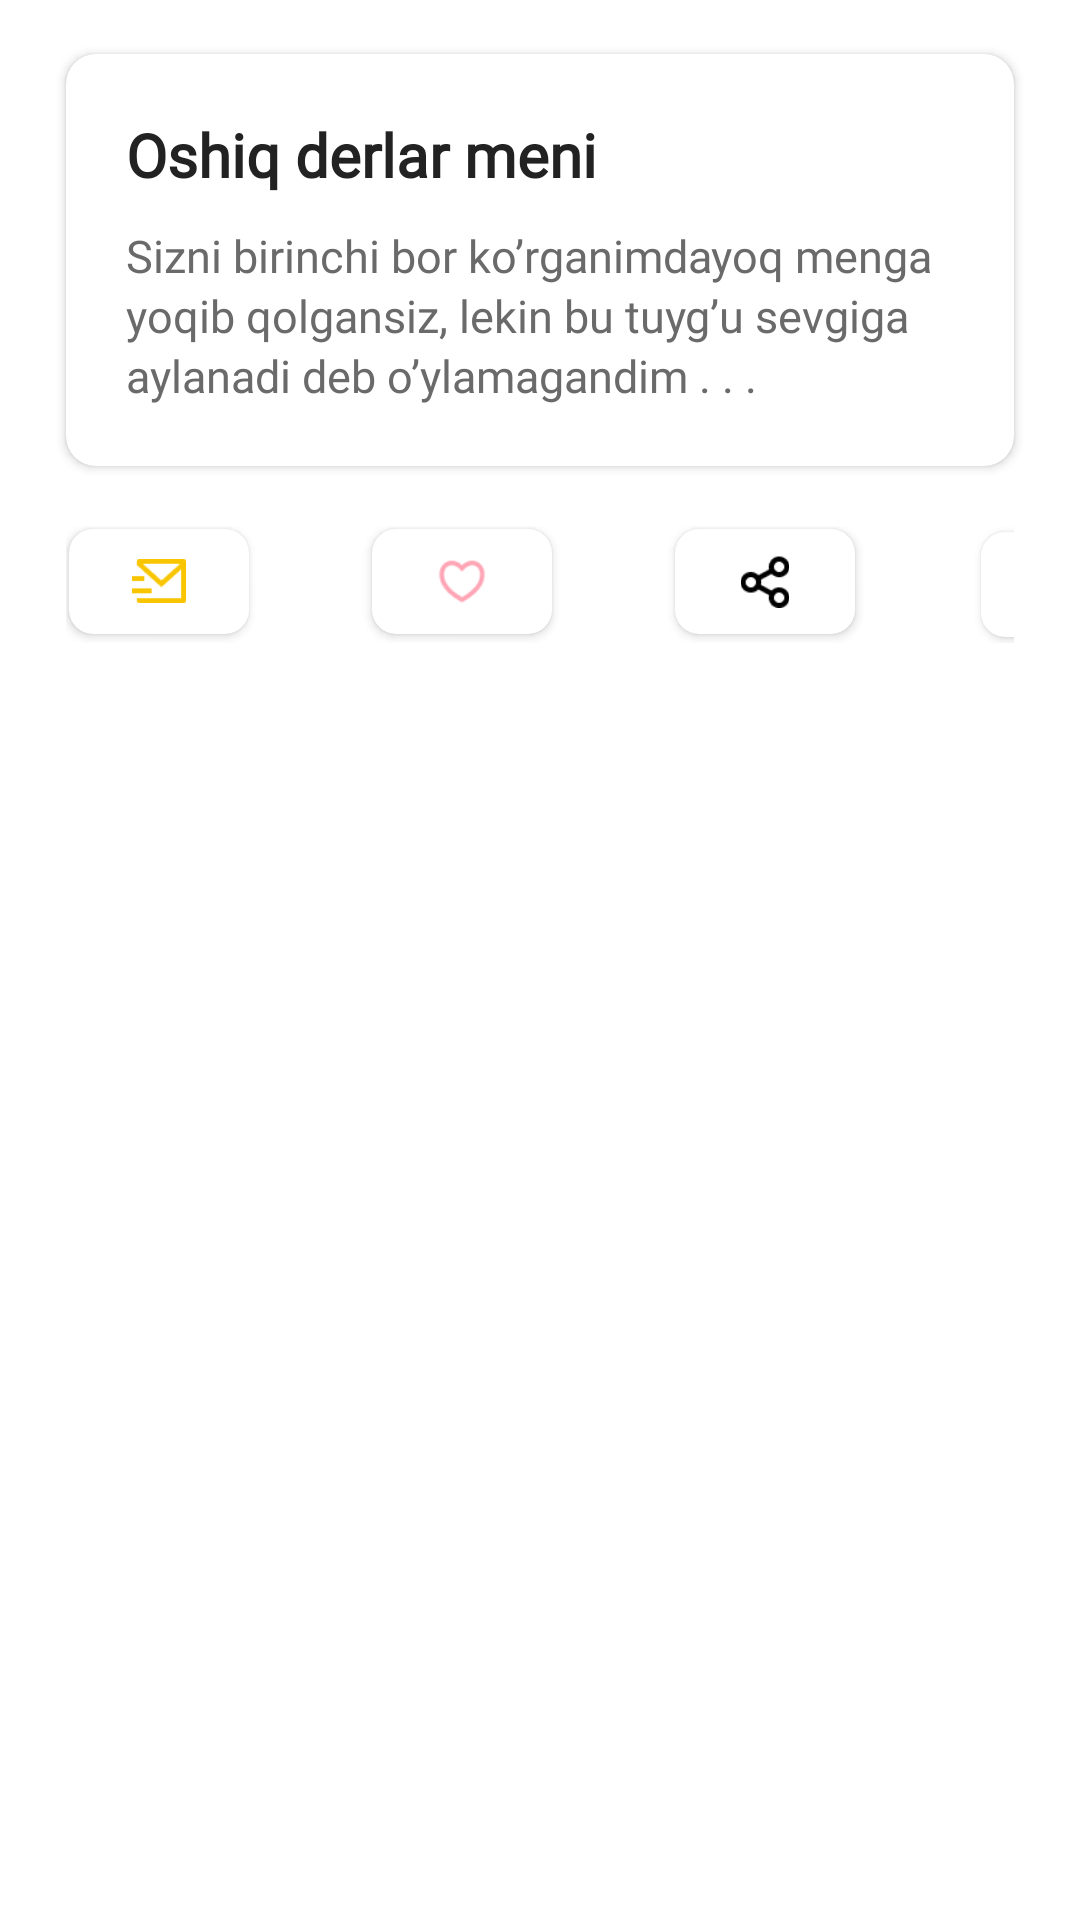

Where to tap for icons on this 1080x1920 app screen, as [x,y]:
email: [159,581]
share: [765,582]
